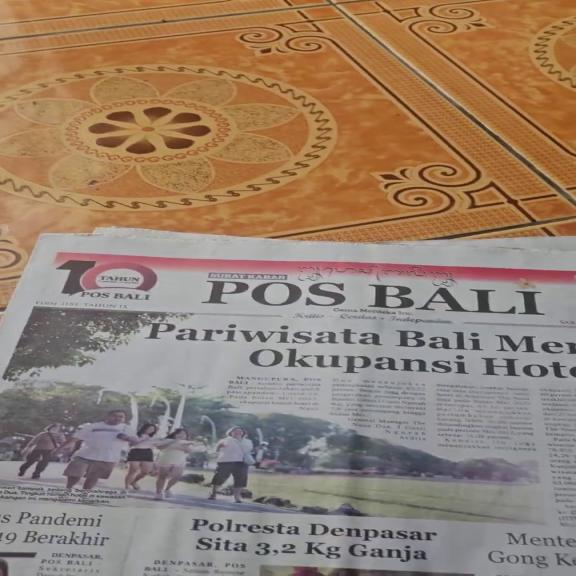Kertas: (2, 233, 568, 572)
